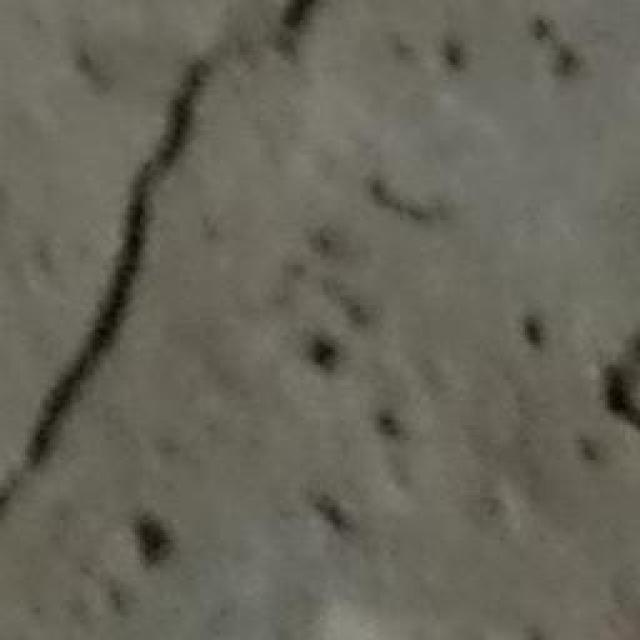Diagonal: (12, 0, 335, 502)
